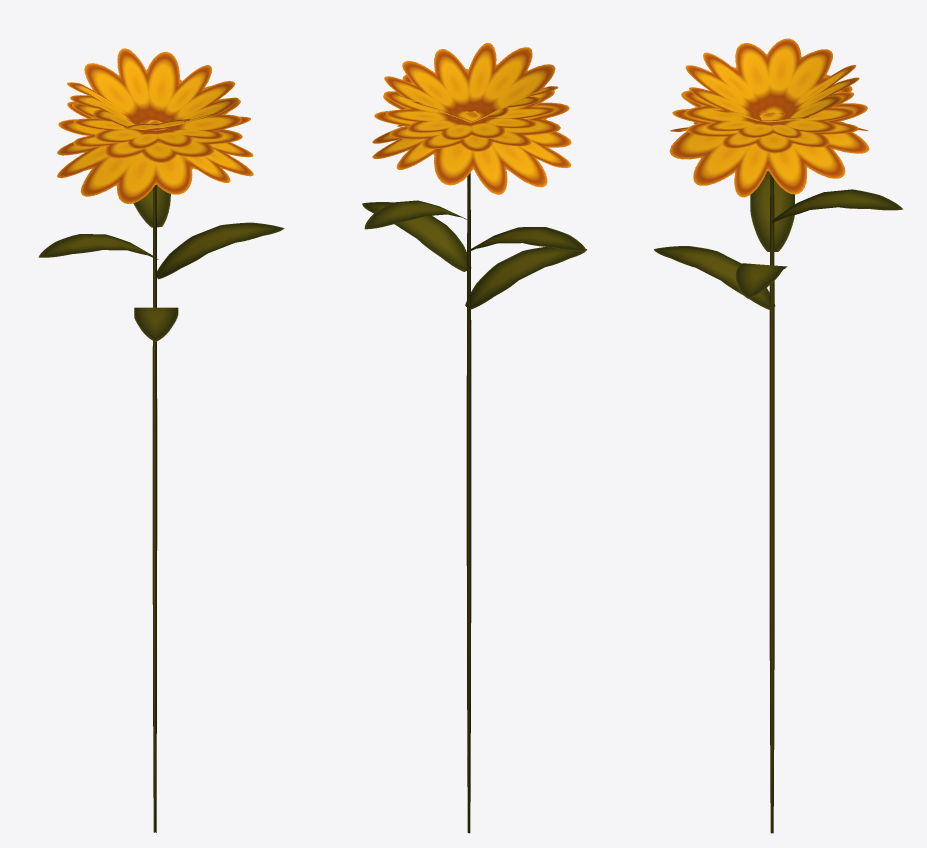
The model's file is SM_flower_01.glb.
3 views of the same model, side by side, from view 1: azimuth 30°, elevation 25°; view 2: azimuth 150°, elevation 25°; view 3: azimuth 270°, elevation 25° (orthographic).
Visible parts, largest first — view 1: SM_flower_01; view 2: SM_flower_01; view 3: SM_flower_01.
Boxes of the visible parts, left/top/right/bottom form: SM_flower_01: left=38, top=48, right=284, bottom=832; SM_flower_01: left=362, top=43, right=587, bottom=833; SM_flower_01: left=654, top=38, right=903, bottom=833.
Size of the model in its own units: 0.2971 by 0.9041 by 0.2869.
Materials: 1 (1 with a texture image).
